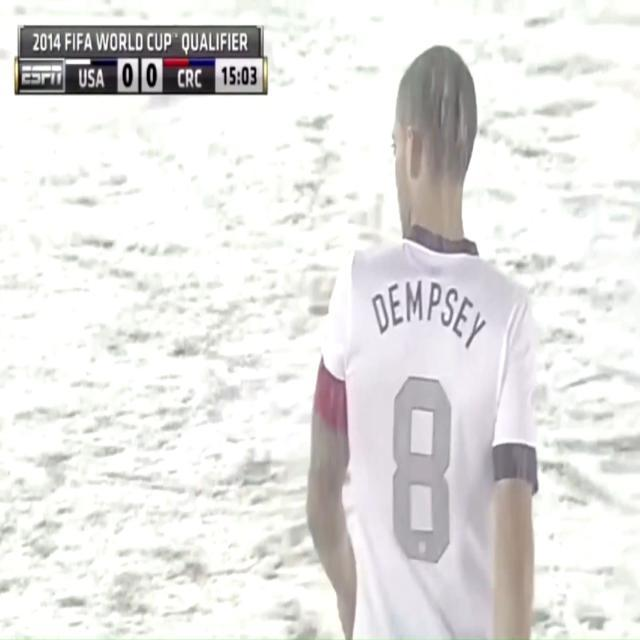player: (296, 2, 553, 640)
